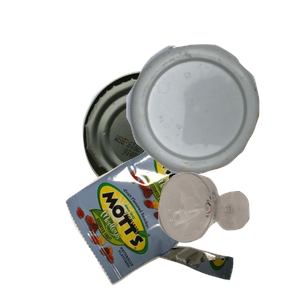glass: (156, 170, 300, 300)
metal: (80, 68, 284, 248)
plastic: (124, 42, 300, 210)
trash: (63, 137, 289, 300)
